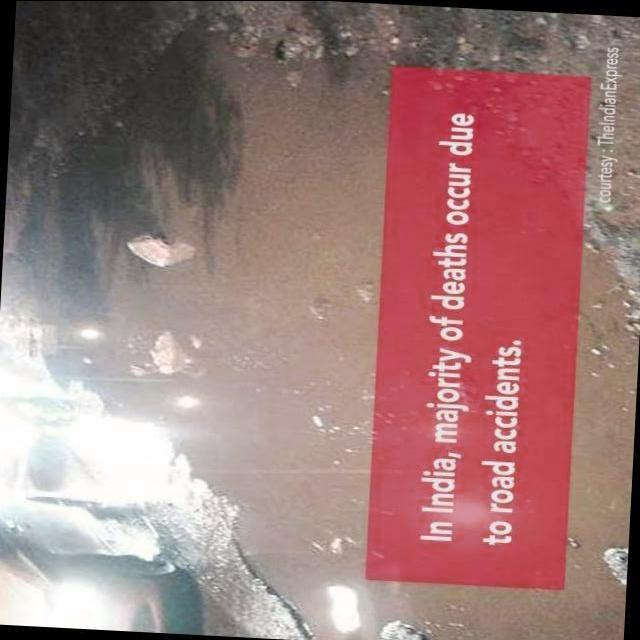pothole: (2, 10, 640, 640), (478, 0, 481, 8)
